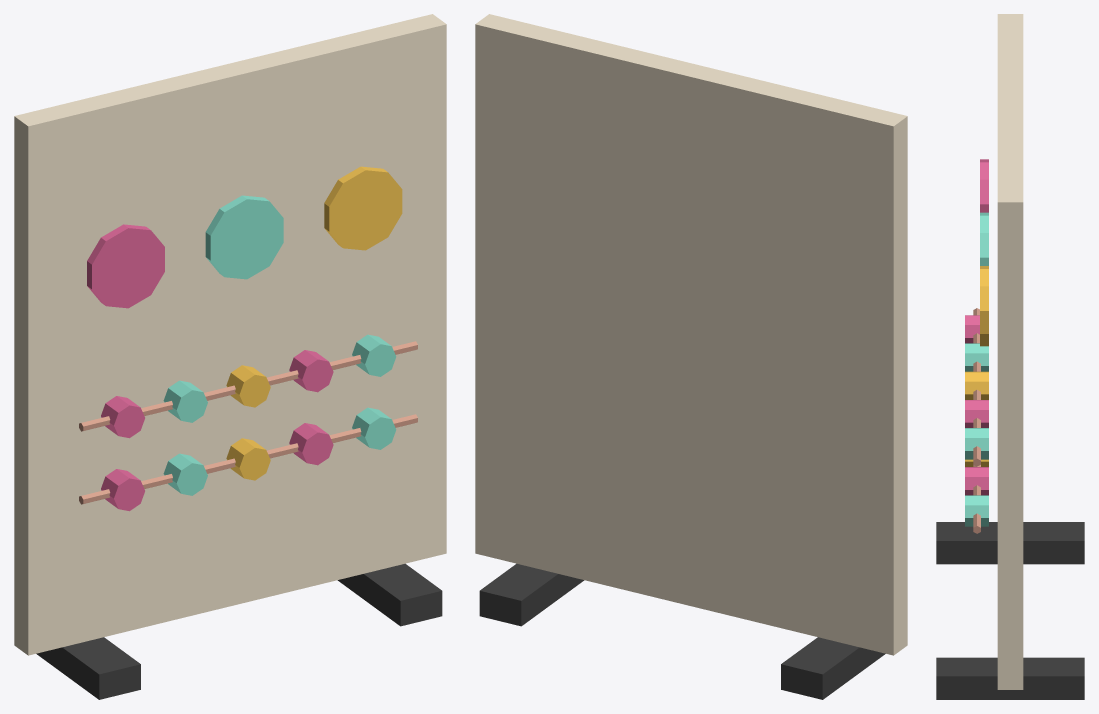
The picture shows the model from 3 angles, left to right: view 1: azimuth 30°, elevation 25°; view 2: azimuth 150°, elevation 25°; view 3: azimuth 270°, elevation 25°; orthographic projection. The views are drawn at different scales.
Visible parts, largest first — view 1: Panel, Learning circular shape.002, Learning circular shape.001, Learning circular shape, Panel foot.001, Panel foot, Counting rail.001, Counting rail, Counting bead.002, Counting bead.004, Counting bead.007, Counting bead.009 (+6 smaller); view 2: Panel, Panel foot.001, Panel foot; view 3: Panel, Panel foot.001, Panel foot, Learning circular shape.002, Counting bead.004, Counting bead.009, Counting bead.007, Counting bead.003, Counting bead.008, Counting bead.006, Counting rail.001, Learning circular shape (+2 smaller).
Boxes of the visible parts, x1,y1,x2,y2 form: Panel: [14, 14, 446, 655]; Learning circular shape.002: [324, 166, 402, 250]; Learning circular shape.001: [205, 195, 283, 279]; Learning circular shape: [87, 224, 164, 308]; Panel foot.001: [337, 563, 442, 626]; Panel foot: [36, 637, 140, 699]; Counting rail.001: [79, 341, 417, 431]; Counting rail: [79, 414, 417, 504]; Counting bead.002: [226, 438, 270, 480]; Counting bead.004: [352, 407, 396, 449]; Counting bead.007: [226, 365, 270, 407]; Counting bead.009: [352, 334, 396, 376]; Panel: [475, 14, 907, 655]; Panel foot.001: [479, 563, 584, 626]; Panel foot: [781, 637, 885, 699]; Panel: [997, 14, 1023, 689]; Panel foot.001: [936, 657, 1084, 699]; Panel foot: [936, 522, 1084, 564]; Learning circular shape.002: [980, 266, 988, 346]; Counting bead.004: [965, 495, 988, 526]; Counting bead.009: [965, 428, 988, 459]; Counting bead.007: [965, 371, 988, 399]; Counting bead.003: [965, 467, 988, 495]; Counting bead.008: [965, 400, 988, 427]; Counting bead.006: [965, 343, 988, 371]; Counting rail.001: [973, 308, 980, 466]; Learning circular shape: [980, 159, 988, 212].
Size of the model in its own units: 1.2 by 1.53 by 0.4.
Materials: 1 (1 with a texture image).
